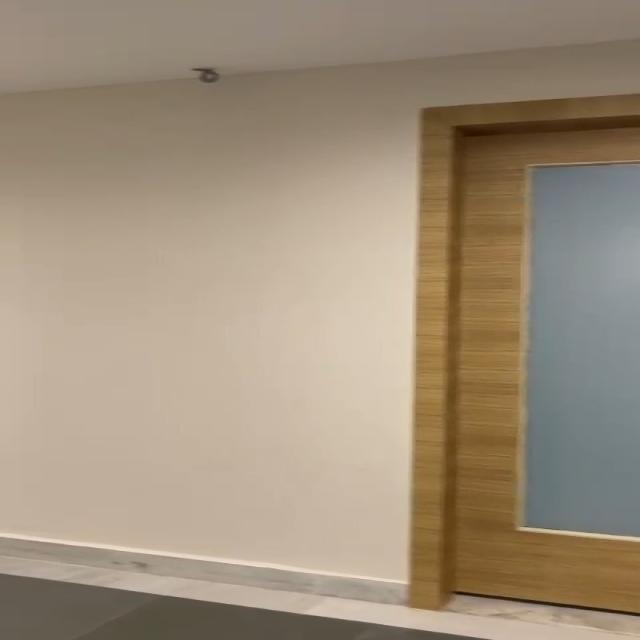door: (422, 95, 640, 595)
floor: (0, 575, 399, 640)
wall: (0, 80, 396, 568)
